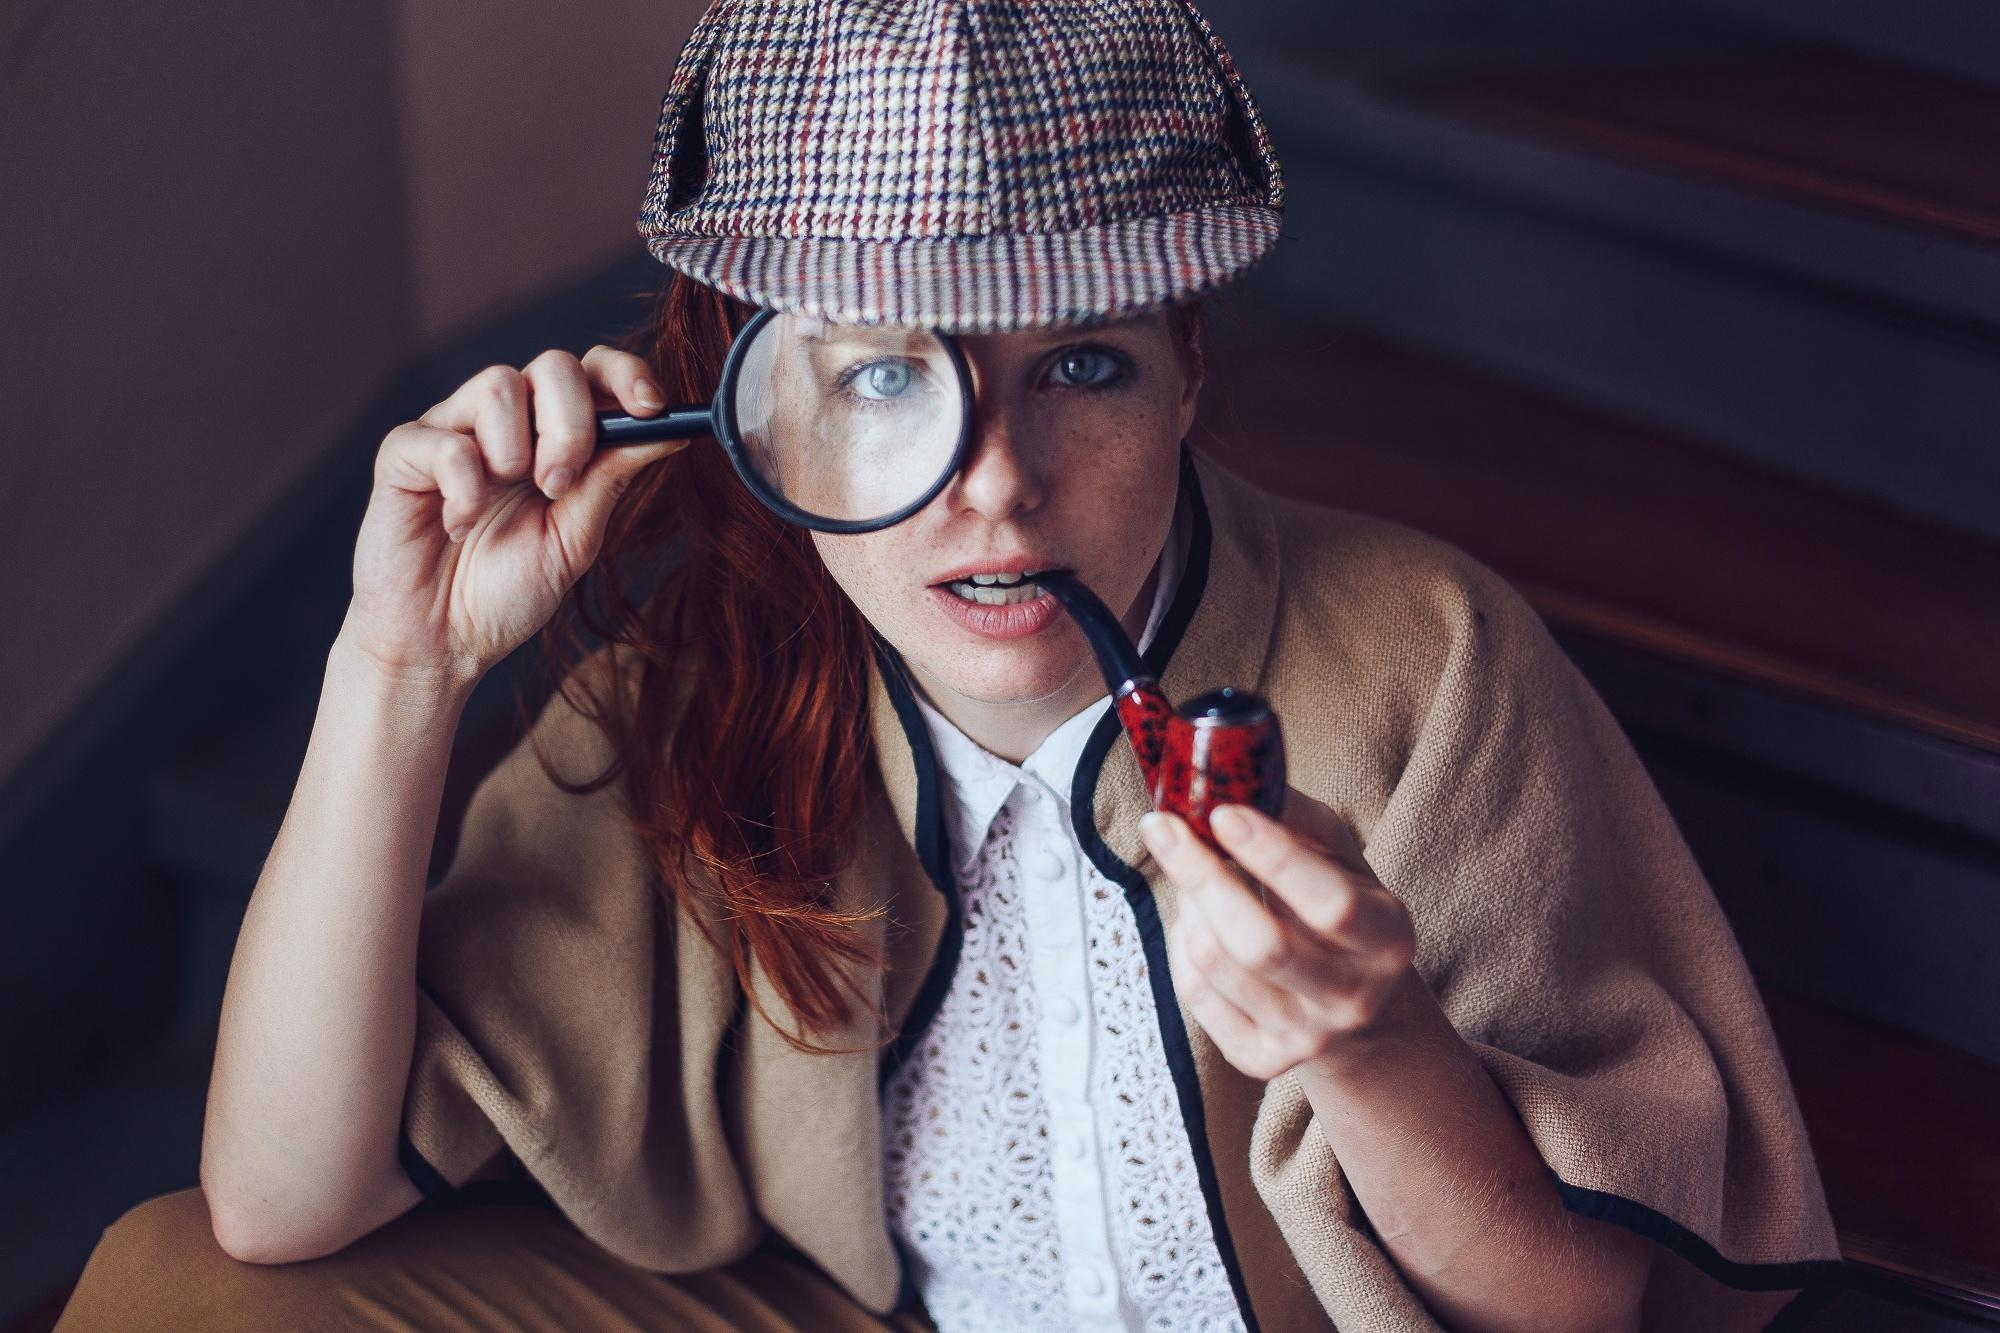trubka: (1029, 571, 1288, 844)
